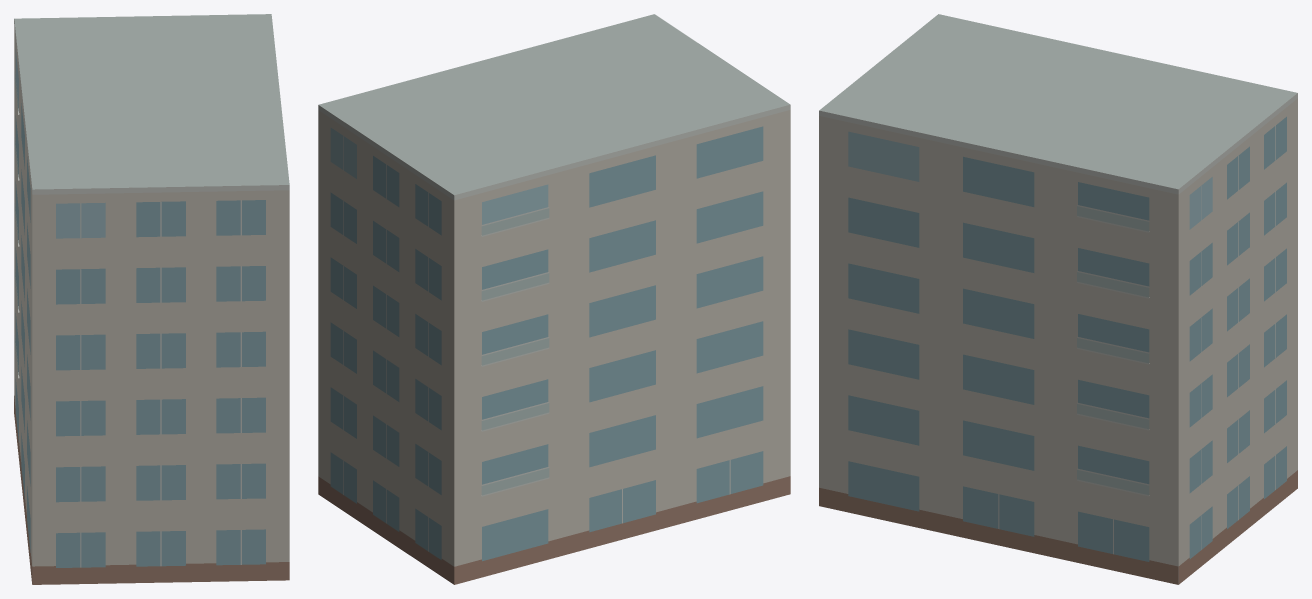
Rendered from survey-upis-32554845.glb.
3 renders of one model, left to right at view 1: azimuth 30°, elevation 25°; view 2: azimuth 150°, elevation 25°; view 3: azimuth 270°, elevation 25°, orthographic.
Visible parts, largest first — view 1: survey-upis-32554845.tmp; view 2: survey-upis-32554845.tmp; view 3: survey-upis-32554845.tmp.
Boxes of the visible parts, box(x1,y1,x2,y2) form: survey-upis-32554845.tmp: box(14, 14, 289, 584); survey-upis-32554845.tmp: box(318, 14, 790, 584); survey-upis-32554845.tmp: box(819, 14, 1297, 584).
Size of the model in its own units: 17.41 by 18.3 by 20.09.
